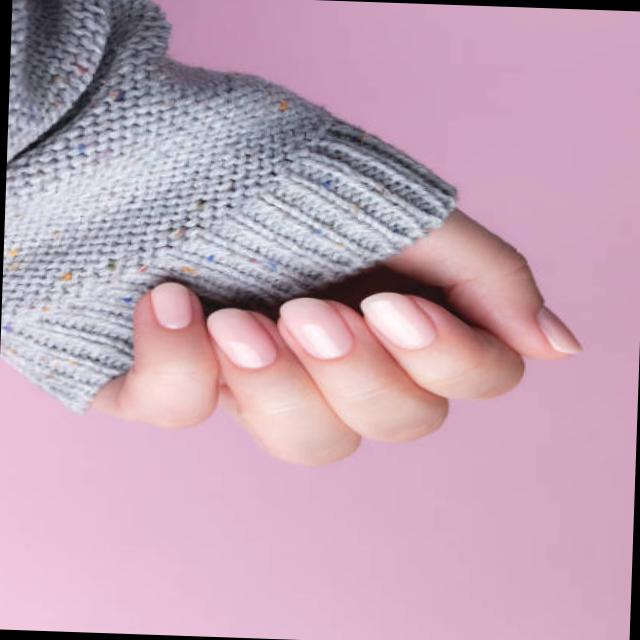Nail: (277, 297, 352, 359), (361, 292, 435, 349), (206, 308, 275, 368), (535, 305, 581, 354), (150, 282, 192, 329)
